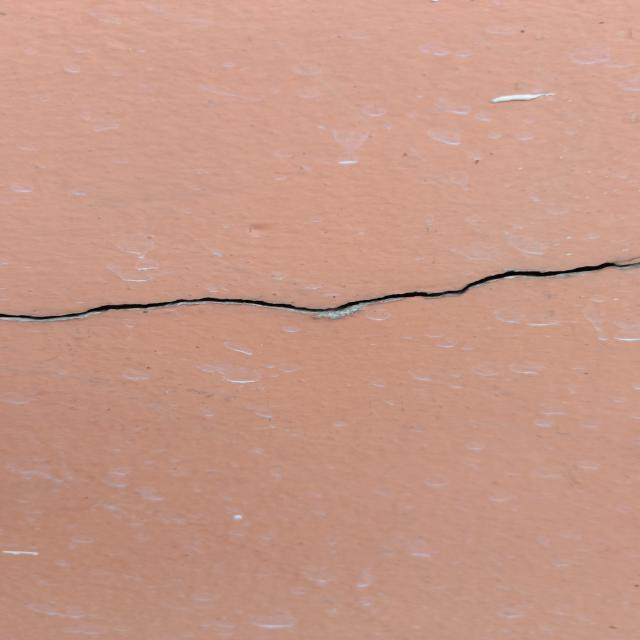horizontal crack: (0, 259, 639, 321)
